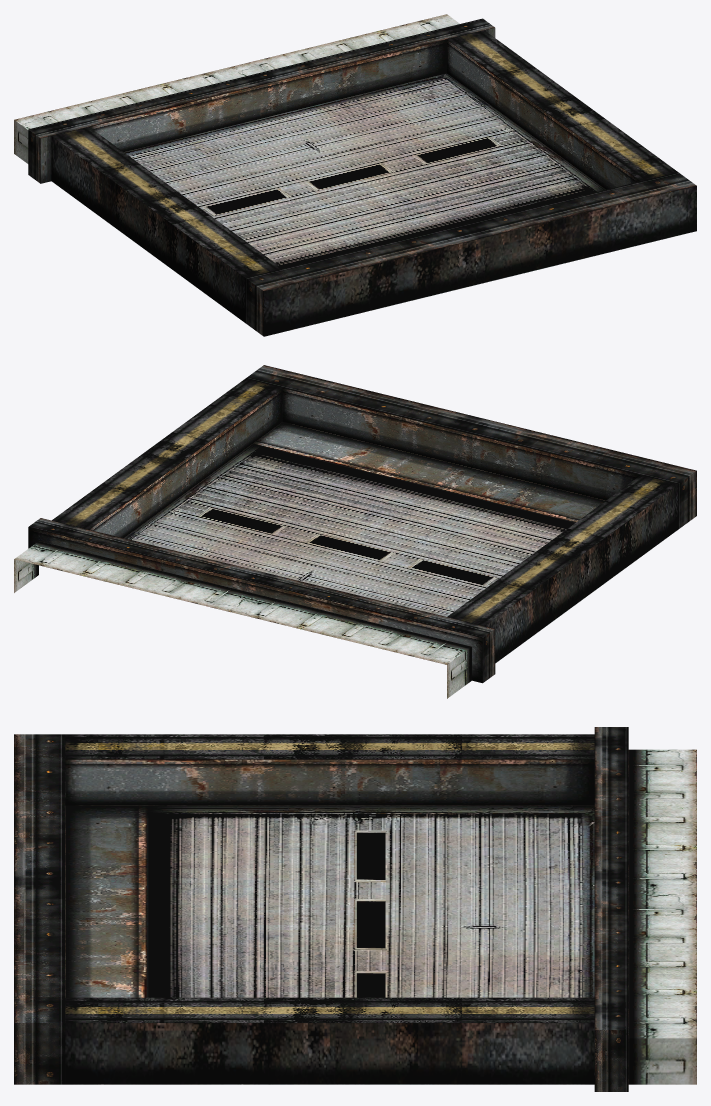
Rendered from loading_dock_door.fbx.
The picture shows the model from 3 angles, top to bottom: view 1: azimuth 30°, elevation 25°; view 2: azimuth 150°, elevation 25°; view 3: azimuth 270°, elevation 25°; orthographic projection. The views are drawn at different scales.
Parts seen in each view (by area): view 1: mesh_0; view 2: mesh_0; view 3: mesh_0.
Boxes of the visible parts, bbox=[...] form: mesh_0: bbox=[14, 14, 696, 336]; mesh_0: bbox=[14, 365, 696, 698]; mesh_0: bbox=[14, 727, 696, 1091].
Bounding box in the file's own units: 420 × 40 × 400.
1 material, 1 textured.
